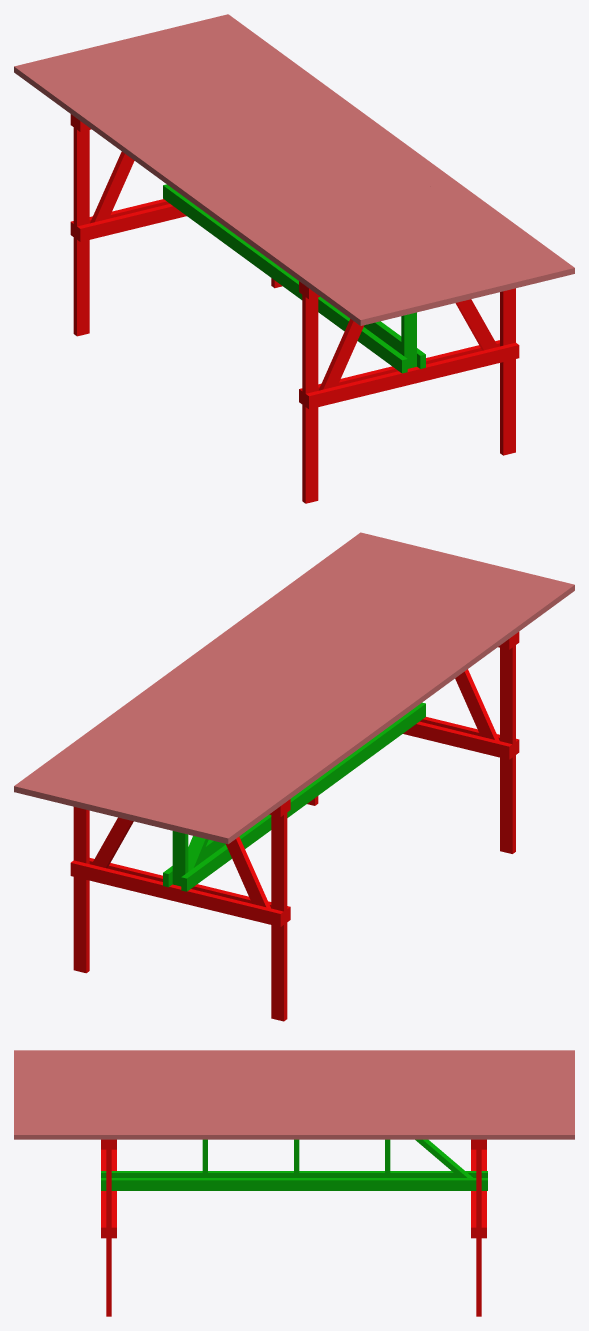
File: result.glb
3 renders of one model, top to bottom at view 1: azimuth 30°, elevation 25°; view 2: azimuth 150°, elevation 25°; view 3: azimuth 270°, elevation 25°, orthographic. The views are drawn at different scales.
Visible parts, largest first — view 1: 4fa49c14-2522-4172-90ba-f112fda446e3__Box, a78c228a-e93b-41ce-bf01-c575b5ae81d8__undefined, 04f91a7d-19f0-42f0-aa78-42b8be6c8564__undefined, 78b08ac2-5377-4351-b679-e4854688edce__undefined, 85aca737-f418-4831-adbc-ec9fc2f7f241__undefined, a86a8847-6479-4c55-a3c0-7383be34d519__undefined, 2e3d5bc3-6726-411a-9b95-85cd32831c8e__undefined, df43577d-b637-4604-844d-bdc215ffd2b4__undefined, a2529fca-1d94-42bb-8def-79048684834e__undefined, 056f073a-50f3-42be-84f8-5442f9dab57b__undefined, eb909b7c-9fb0-4440-9a91-1c5380133d76__undefined, 25ccda65-49f7-4524-a637-976852b5331c__undefined (+17 smaller); view 2: 4fa49c14-2522-4172-90ba-f112fda446e3__Box, 78b08ac2-5377-4351-b679-e4854688edce__undefined, 85aca737-f418-4831-adbc-ec9fc2f7f241__undefined, a78c228a-e93b-41ce-bf01-c575b5ae81d8__undefined, 04f91a7d-19f0-42f0-aa78-42b8be6c8564__undefined, df43577d-b637-4604-844d-bdc215ffd2b4__undefined, 056f073a-50f3-42be-84f8-5442f9dab57b__undefined, a86a8847-6479-4c55-a3c0-7383be34d519__undefined, 2e3d5bc3-6726-411a-9b95-85cd32831c8e__undefined, 75c0d1ee-6fcd-4efd-91d9-620d6c9fef1e__undefined, eb909b7c-9fb0-4440-9a91-1c5380133d76__undefined, 64e050e7-1575-4a57-b1de-11bce1ca5661__undefined (+16 smaller); view 3: a2529fca-1d94-42bb-8def-79048684834e__undefined, e9f593cf-c77c-436f-ac10-ca3c247b525c__strutH, 4fa49c14-2522-4172-90ba-f112fda446e3__Box, 75c0d1ee-6fcd-4efd-91d9-620d6c9fef1e__undefined, 056f073a-50f3-42be-84f8-5442f9dab57b__undefined, eb909b7c-9fb0-4440-9a91-1c5380133d76__undefined, 25ccda65-49f7-4524-a637-976852b5331c__undefined, 78b08ac2-5377-4351-b679-e4854688edce__undefined, a86a8847-6479-4c55-a3c0-7383be34d519__undefined, 64e050e7-1575-4a57-b1de-11bce1ca5661__undefined, 570639c7-e56e-4f47-a19e-c3530802428c__undefined, df43577d-b637-4604-844d-bdc215ffd2b4__undefined (+14 smaller).
Part boxes in pixels (x1,y1,x2,y2): 4fa49c14-2522-4172-90ba-f112fda446e3__Box: (14,63,373,325); a78c228a-e93b-41ce-bf01-c575b5ae81d8__undefined: (178,23,537,285); 04f91a7d-19f0-42f0-aa78-42b8be6c8564__undefined: (203,17,562,279); 78b08ac2-5377-4351-b679-e4854688edce__undefined: (77,48,436,310); 85aca737-f418-4831-adbc-ec9fc2f7f241__undefined: (140,32,499,295); a86a8847-6479-4c55-a3c0-7383be34d519__undefined: (90,45,448,307); 2e3d5bc3-6726-411a-9b95-85cd32831c8e__undefined: (165,26,524,288); df43577d-b637-4604-844d-bdc215ffd2b4__undefined: (128,36,486,298); a2529fca-1d94-42bb-8def-79048684834e__undefined: (216,14,574,276); 056f073a-50f3-42be-84f8-5442f9dab57b__undefined: (39,57,398,319); eb909b7c-9fb0-4440-9a91-1c5380133d76__undefined: (52,54,410,316); 25ccda65-49f7-4524-a637-976852b5331c__undefined: (64,51,423,313); 4fa49c14-2522-4172-90ba-f112fda446e3__Box: (215,581,574,844); 78b08ac2-5377-4351-b679-e4854688edce__undefined: (152,566,511,828); 85aca737-f418-4831-adbc-ec9fc2f7f241__undefined: (89,551,448,813); a78c228a-e93b-41ce-bf01-c575b5ae81d8__undefined: (51,541,410,804); 04f91a7d-19f0-42f0-aa78-42b8be6c8564__undefined: (26,535,385,797); df43577d-b637-4604-844d-bdc215ffd2b4__undefined: (102,554,460,816); 056f073a-50f3-42be-84f8-5442f9dab57b__undefined: (190,575,549,837); a86a8847-6479-4c55-a3c0-7383be34d519__undefined: (140,563,498,825); 2e3d5bc3-6726-411a-9b95-85cd32831c8e__undefined: (64,544,423,807); 75c0d1ee-6fcd-4efd-91d9-620d6c9fef1e__undefined: (203,578,561,841); eb909b7c-9fb0-4440-9a91-1c5380133d76__undefined: (178,572,536,834); 64e050e7-1575-4a57-b1de-11bce1ca5661__undefined: (127,560,486,822); a2529fca-1d94-42bb-8def-79048684834e__undefined: (14,1130,574,1139); e9f593cf-c77c-436f-ac10-ca3c247b525c__strutH: (101,1178,487,1190); 4fa49c14-2522-4172-90ba-f112fda446e3__Box: (14,1050,574,1055); 75c0d1ee-6fcd-4efd-91d9-620d6c9fef1e__undefined: (14,1055,574,1059); 056f073a-50f3-42be-84f8-5442f9dab57b__undefined: (14,1060,574,1064); eb909b7c-9fb0-4440-9a91-1c5380133d76__undefined: (14,1065,574,1069); 25ccda65-49f7-4524-a637-976852b5331c__undefined: (14,1070,574,1074); 78b08ac2-5377-4351-b679-e4854688edce__undefined: (14,1075,574,1079); a86a8847-6479-4c55-a3c0-7383be34d519__undefined: (14,1080,574,1084); 64e050e7-1575-4a57-b1de-11bce1ca5661__undefined: (14,1085,574,1089); 570639c7-e56e-4f47-a19e-c3530802428c__undefined: (14,1090,574,1094); df43577d-b637-4604-844d-bdc215ffd2b4__undefined: (14,1095,574,1099).
Bounding box in the file's own units: 714 × 719 × 2000.
